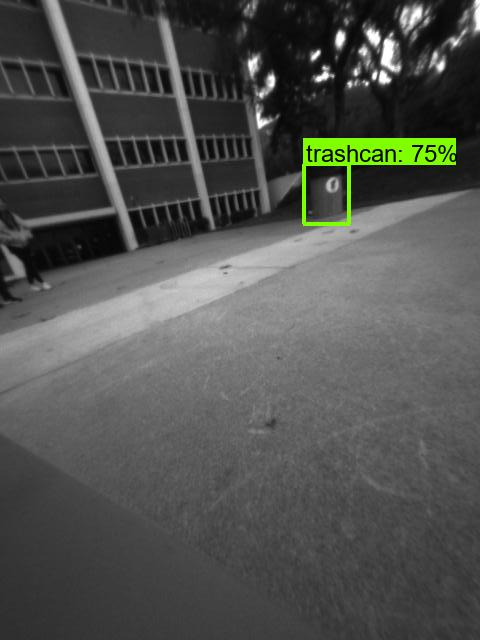trashcan: (308, 170, 347, 219)
